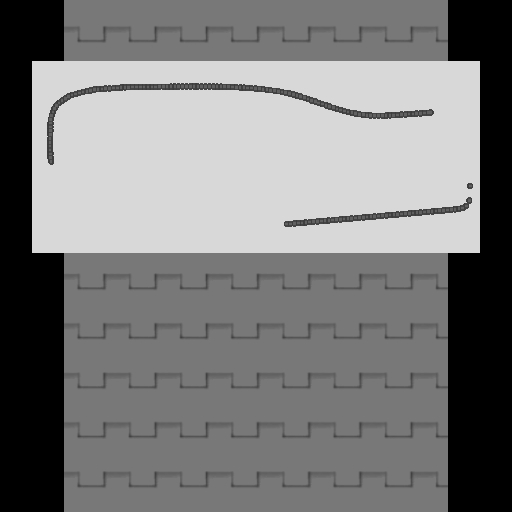Defect: (45, 165, 284, 242)
